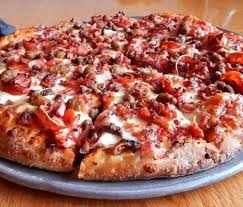pizza: (6, 15, 239, 192)
